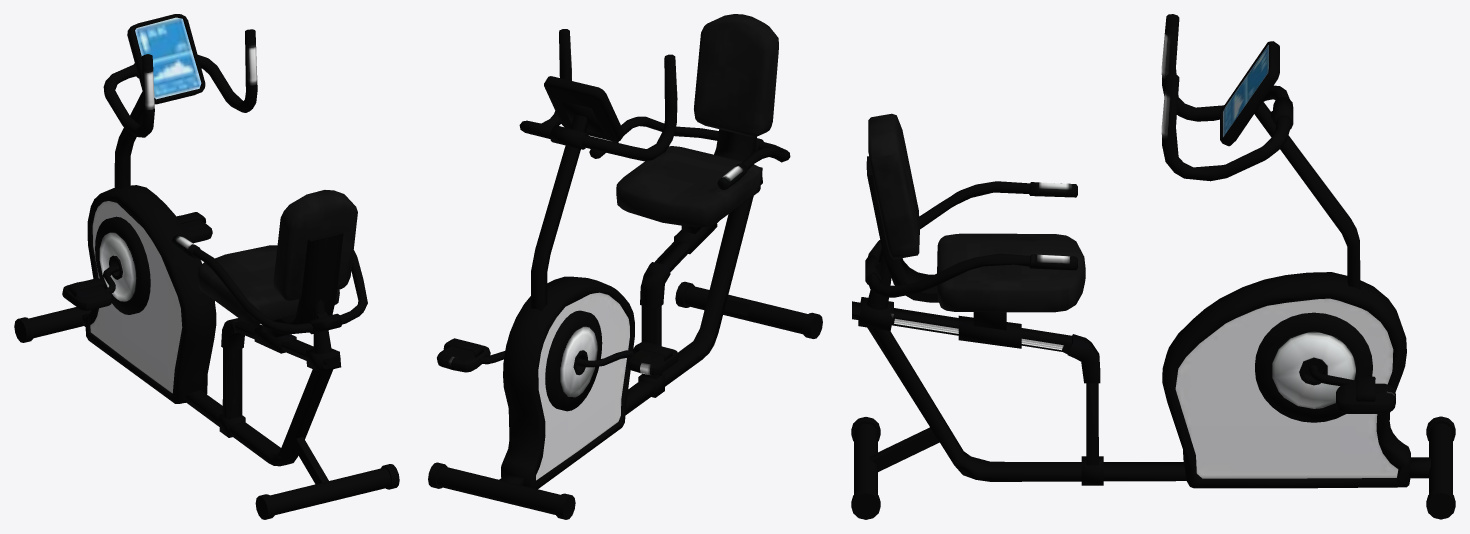
The model's file is recumbent.low.glb.
3 renders of one model, left to right at view 1: azimuth 30°, elevation 25°; view 2: azimuth 150°, elevation 25°; view 3: azimuth 270°, elevation 25°, orthographic. The views are drawn at different scales.
Visible parts, largest first — view 1: Cylinder.070_Material.002_0; view 2: Cylinder.070_Material.002_0; view 3: Cylinder.070_Material.002_0.
Part boxes in pixels (x1,y1,x2,y2): Cylinder.070_Material.002_0: (14, 14, 399, 519); Cylinder.070_Material.002_0: (428, 14, 822, 519); Cylinder.070_Material.002_0: (851, 14, 1455, 519).
Bounding box in the file's own units: 0.6684 × 1.32 × 1.65.
1 material, 1 textured.
